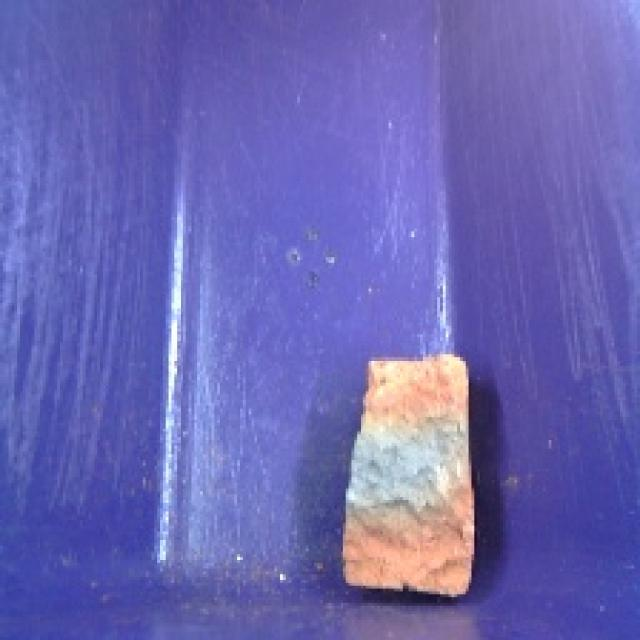brick: (326, 340, 500, 610)
